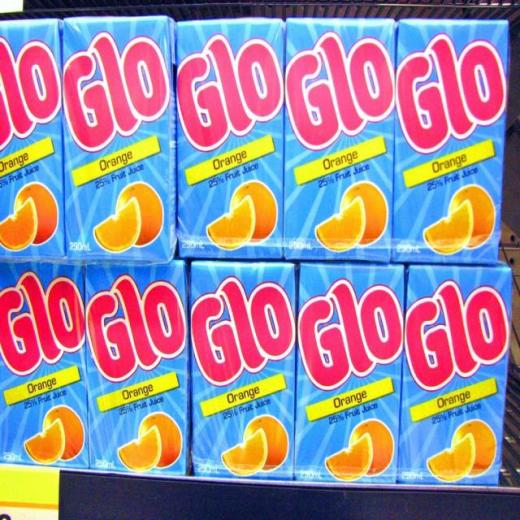Grape: (116, 182, 163, 246), (230, 180, 276, 243), (449, 185, 494, 249), (339, 183, 386, 244), (15, 183, 58, 246), (206, 195, 254, 250), (424, 201, 472, 254), (316, 197, 363, 251), (452, 419, 496, 476), (93, 197, 139, 251), (243, 415, 287, 470), (350, 420, 392, 477), (140, 414, 182, 468), (44, 404, 84, 460), (427, 435, 474, 481), (325, 435, 371, 481), (222, 430, 266, 476), (0, 196, 37, 250), (118, 427, 160, 472), (25, 420, 64, 465)
